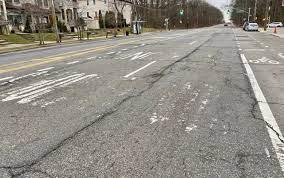faded_road_lines: (0, 33, 284, 137)
